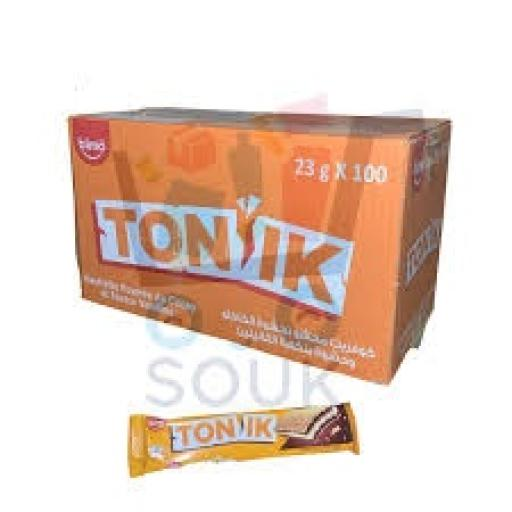tonik: (14, 242, 377, 490)
